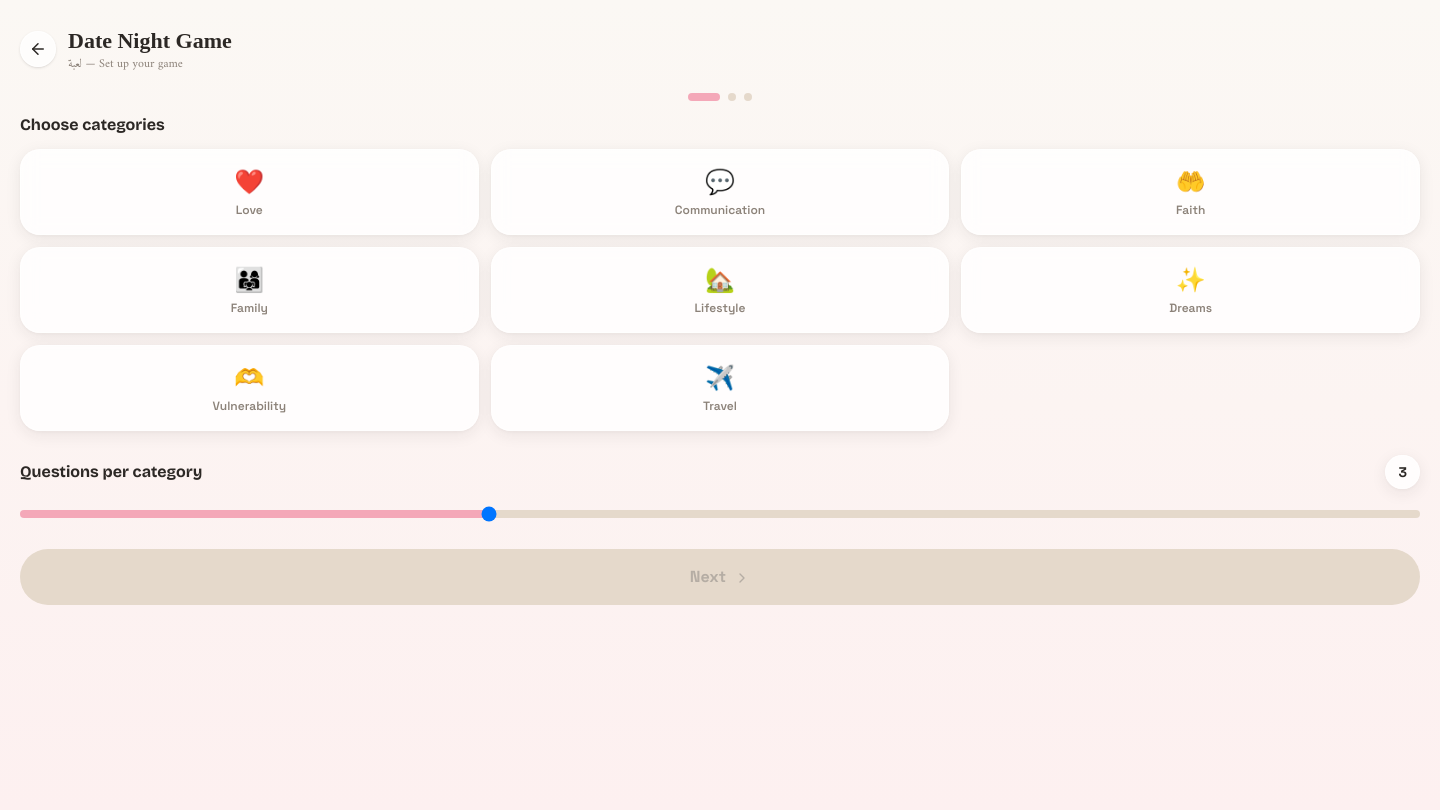
Test case: DateNightSetup › advances to step 2 when Next is clicked
What coordinates should you click on to do the following:
click the text "Love"
I would click on:
 (249, 210)
Its box is left=236, top=202, right=263, bottom=218.
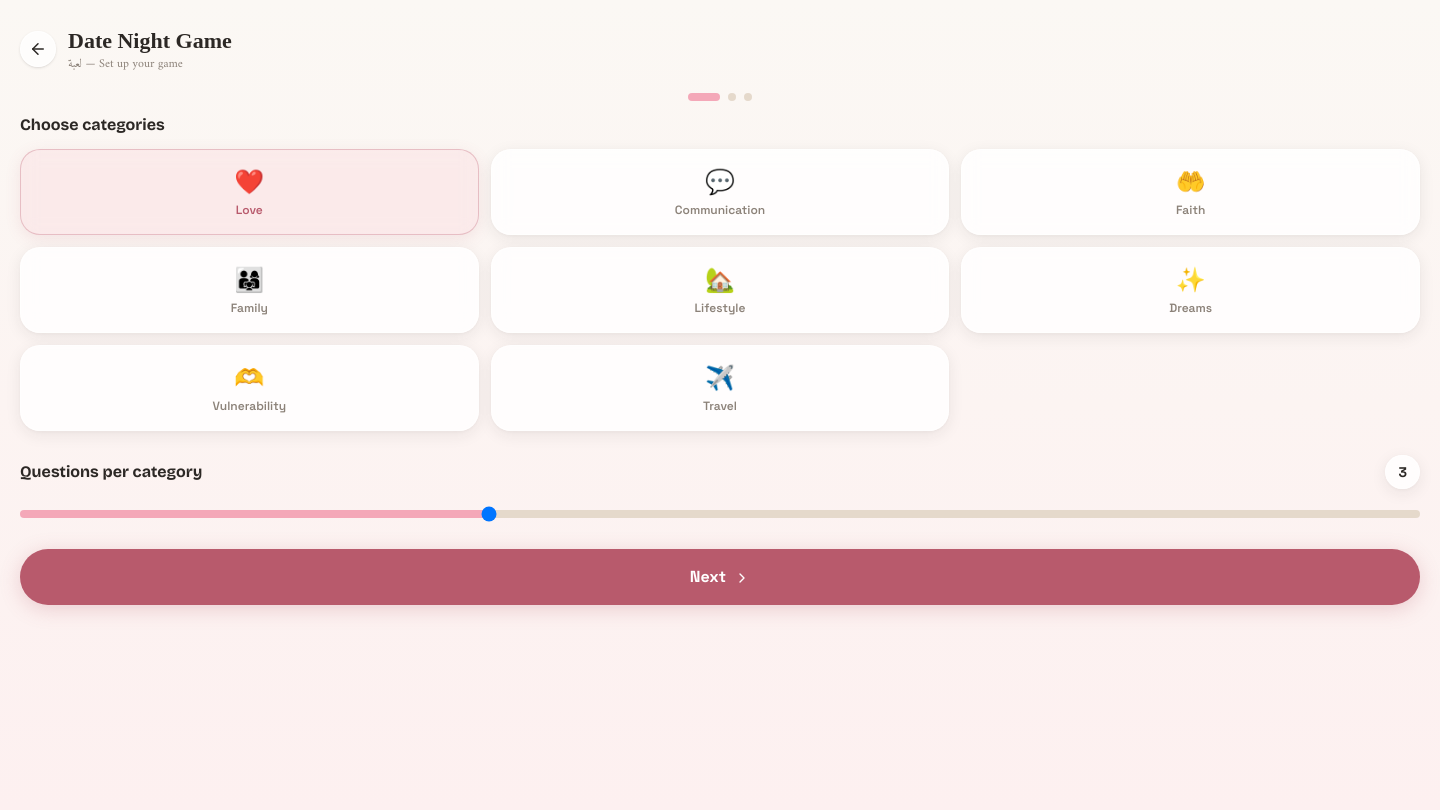
What coordinates should you click on to do the following:
click the button "Next"
I would click on:
 (720, 577)
Its box is left=20, top=549, right=1420, bottom=605.
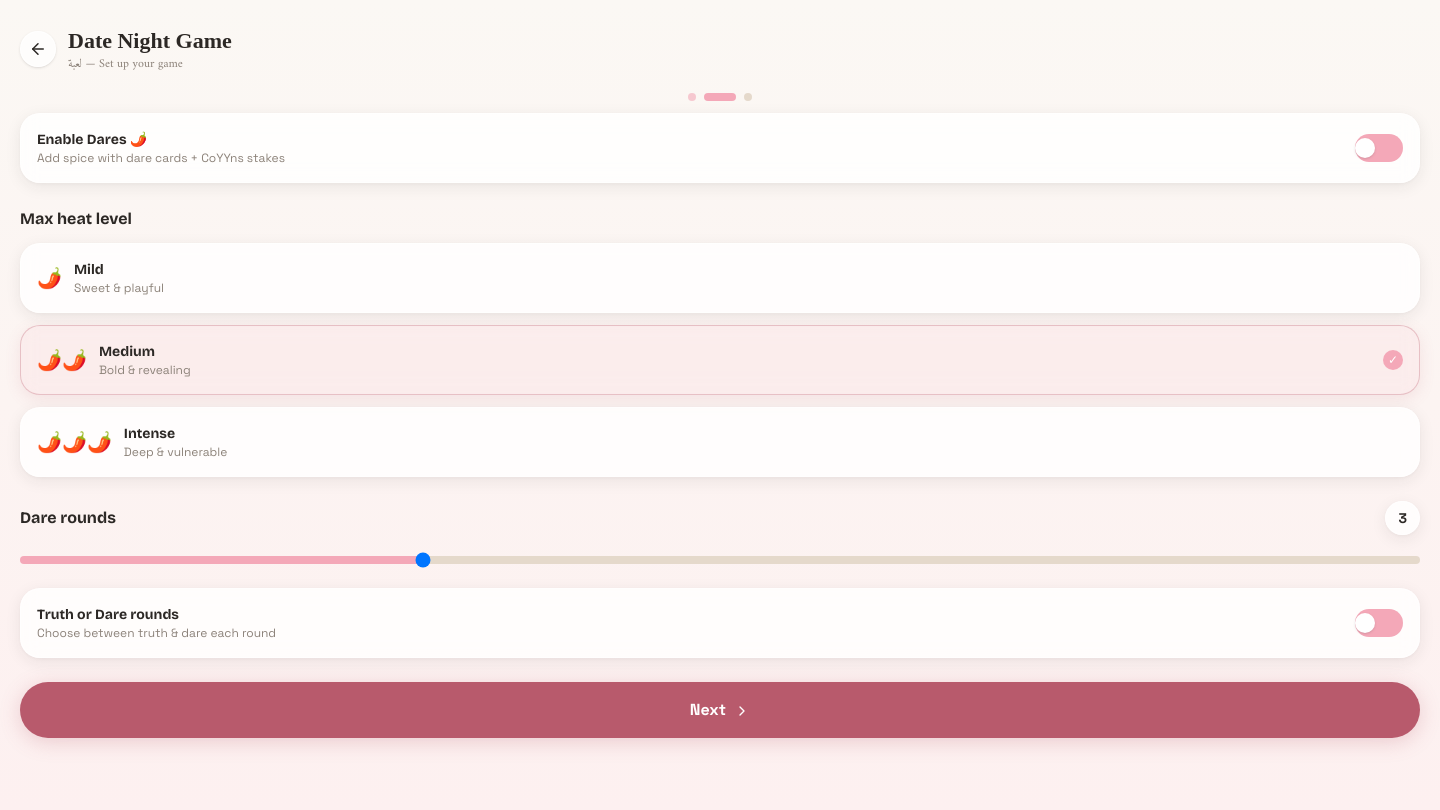
Result: the heading "Enable Dares 🌶️" is shown at left=37, top=131, right=147, bottom=148
